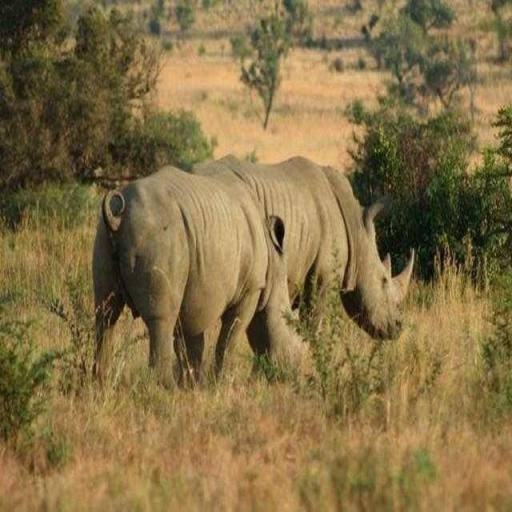Rhino: (188, 152, 414, 382), (90, 162, 310, 392)
